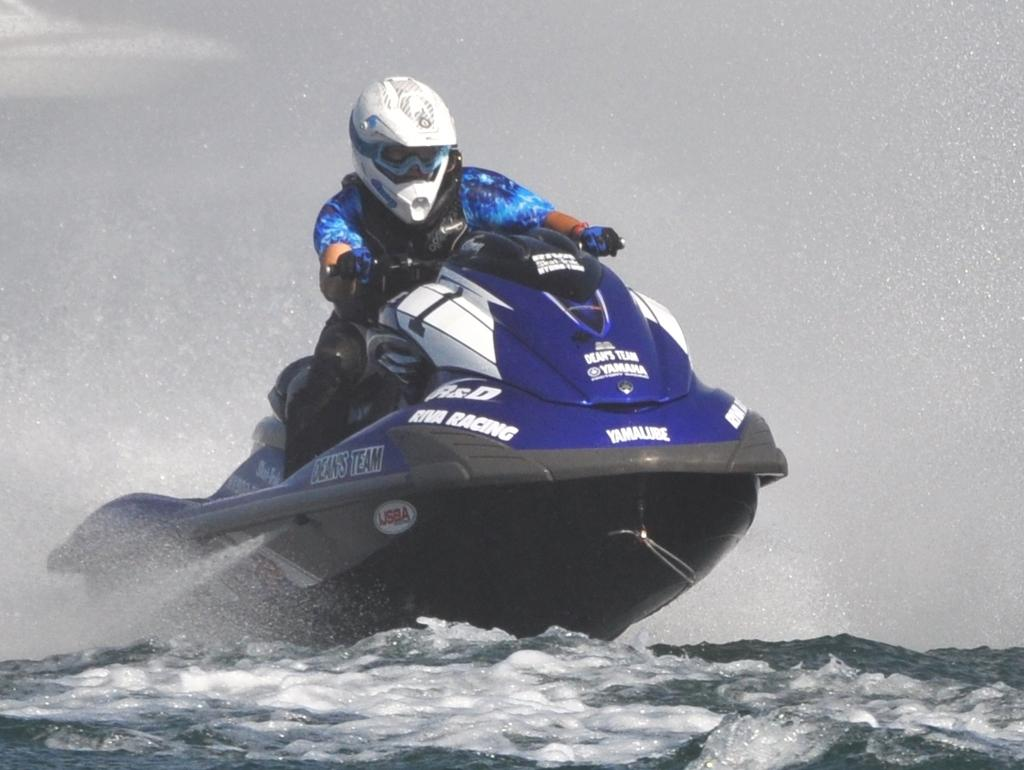helmet: (348, 76, 458, 225)
